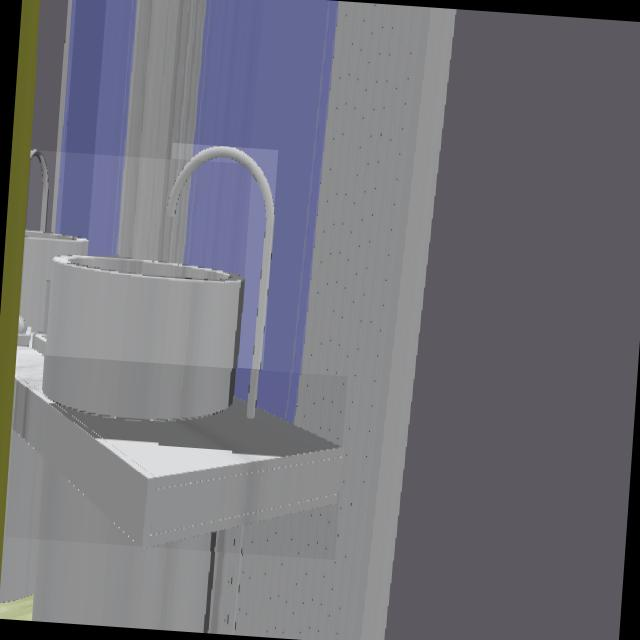shelf: (13, 354, 341, 547)
washbasin: (19, 150, 244, 418), (167, 147, 273, 417)
